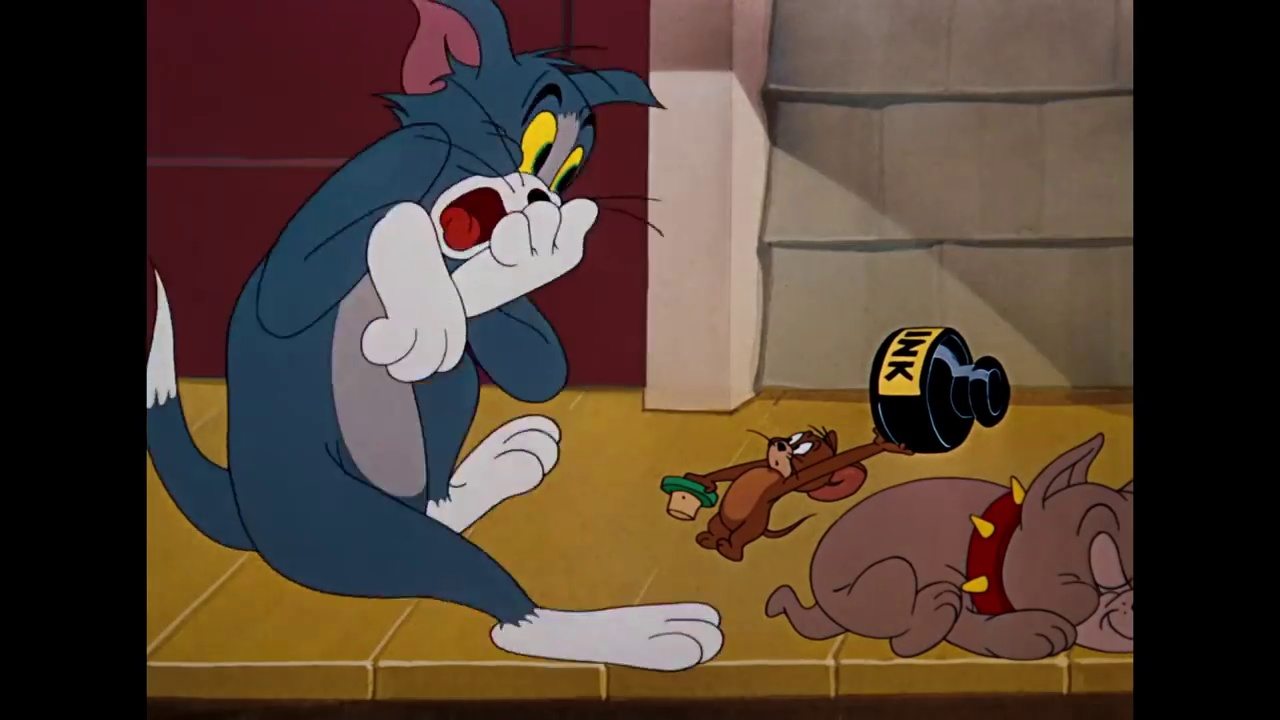tom: (371, 1, 665, 273)
